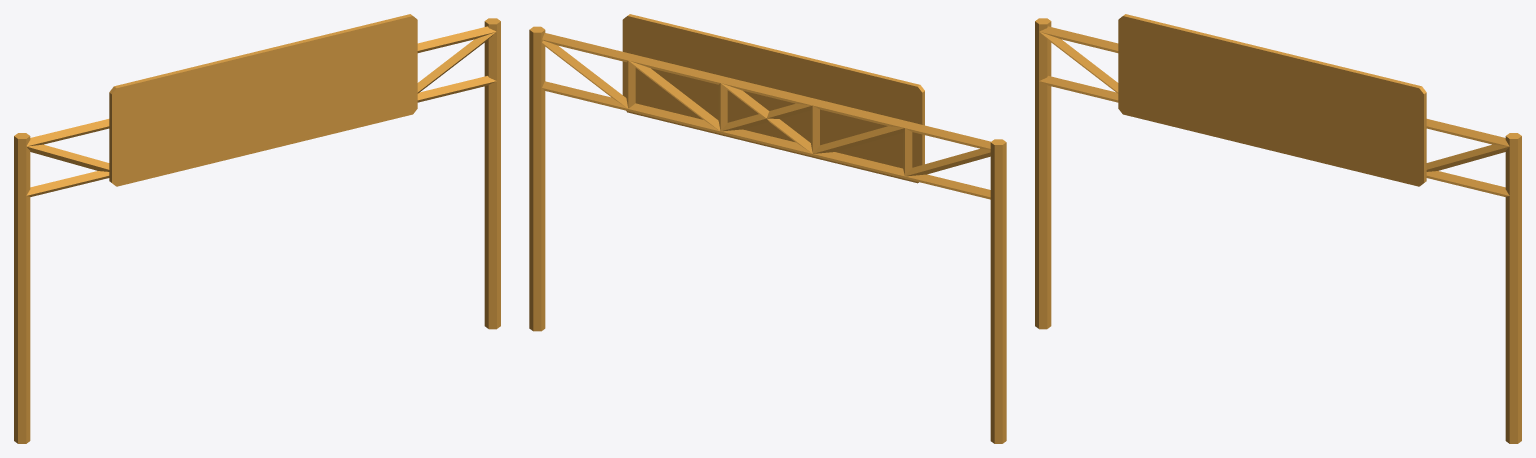
File: road-sign-green.glb
3 renders of one model, left to right at view 1: azimuth 30°, elevation 25°; view 2: azimuth 150°, elevation 25°; view 3: azimuth 330°, elevation 25°, orthographic. The views are drawn at different scales.
Parts seen in each view (by area): view 1: road-sign-green; view 2: road-sign-green; view 3: road-sign-green.
Part boxes in pixels (<box>): road-sign-green: <box>14,14,500,443</box>; road-sign-green: <box>529,14,1006,443</box>; road-sign-green: <box>1035,14,1521,443</box>.
Bounding box in the file's own units: 10.26 × 6.84 × 0.422.
